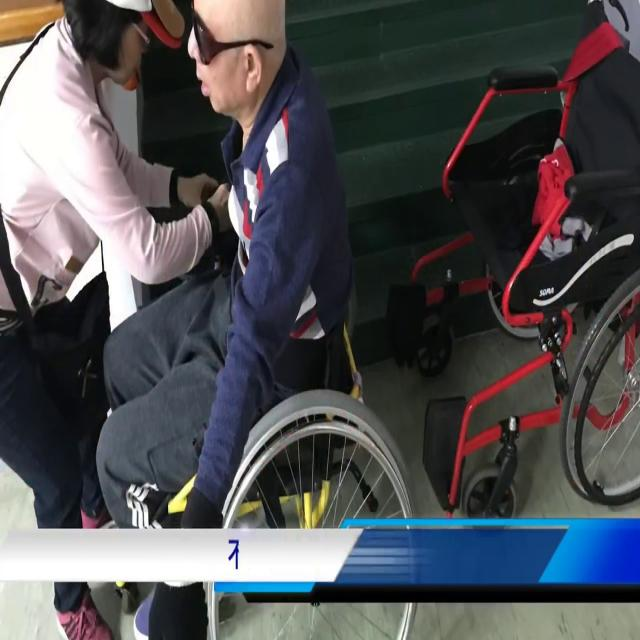wheelchairs: (127, 194, 436, 640), (381, 0, 640, 522)
